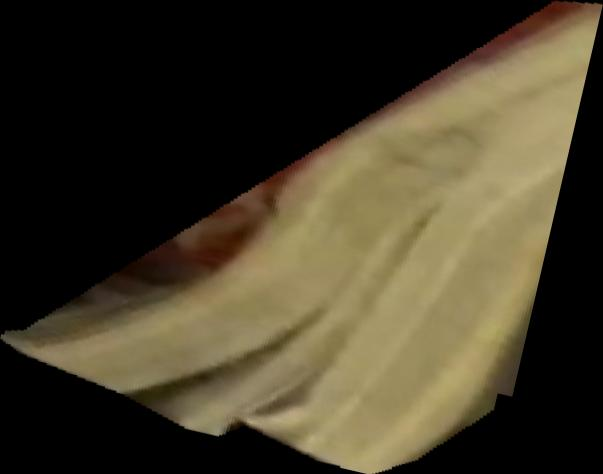backward: (1, 1, 603, 474)
